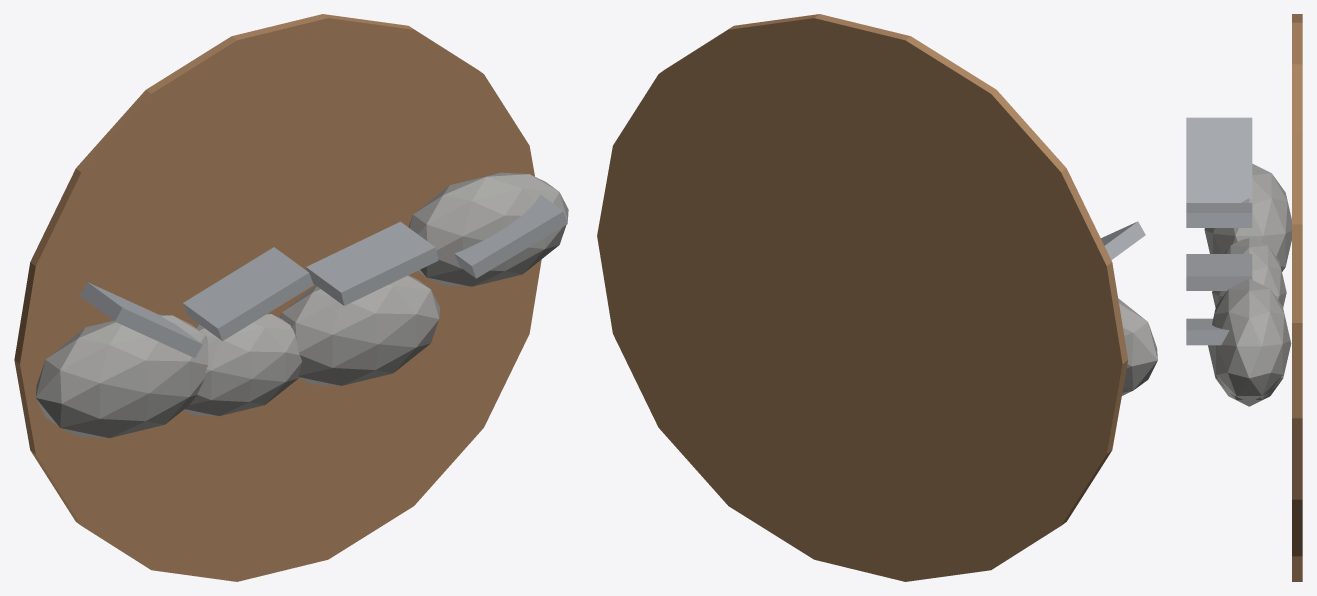
File: 02_local_prop_cluster.glb
3 views of the same model, side by side, from view 1: azimuth 30°, elevation 25°; view 2: azimuth 150°, elevation 25°; view 3: azimuth 270°, elevation 25° (orthographic). The views are drawn at different scales.
Parts seen in each view (by area): view 1: scatter_base, scrap_rock_0, scrap_rock_2, scrap_rock_3, scrap_rock_1, scrap_plate_1, scrap_plate_2, scrap_plate_3, scrap_plate_0; view 2: scatter_base, scrap_rock_0, scrap_plate_0; view 3: scrap_rock_3, scatter_base, scrap_plate_0, scrap_rock_0, scrap_plate_2, scrap_rock_1, scrap_plate_1, scrap_plate_3, scrap_rock_2.
Boxes of the visible parts, <box> form: scatter_base: <box>14,14,541,581</box>; scrap_rock_0: <box>35,314,208,438</box>; scrap_rock_2: <box>280,275,439,385</box>; scrap_rock_3: <box>408,172,568,286</box>; scrap_rock_1: <box>183,314,302,416</box>; scrap_plate_1: <box>183,247,313,341</box>; scrap_plate_2: <box>306,221,438,305</box>; scrap_plate_3: <box>454,194,567,278</box>; scrap_plate_0: <box>80,282,202,357</box>; scatter_base: <box>597,14,1127,581</box>; scrap_rock_0: <box>1118,298,1157,395</box>; scrap_plate_0: <box>1101,221,1145,259</box>; scrap_rock_3: <box>1209,278,1290,402</box>; scatter_base: <box>1292,14,1302,581</box>; scrap_plate_0: <box>1186,117,1252,202</box>; scrap_rock_0: <box>1204,163,1291,271</box>; scrap_plate_2: <box>1186,254,1252,290</box>; scrap_rock_1: <box>1212,238,1286,307</box>; scrap_plate_1: <box>1186,203,1252,227</box>; scrap_plate_3: <box>1186,318,1229,345</box>; scrap_rock_2: <box>1208,341,1291,406</box>.
Bounding box in the file's own units: 1.93 × 1.87 × 0.3875.
